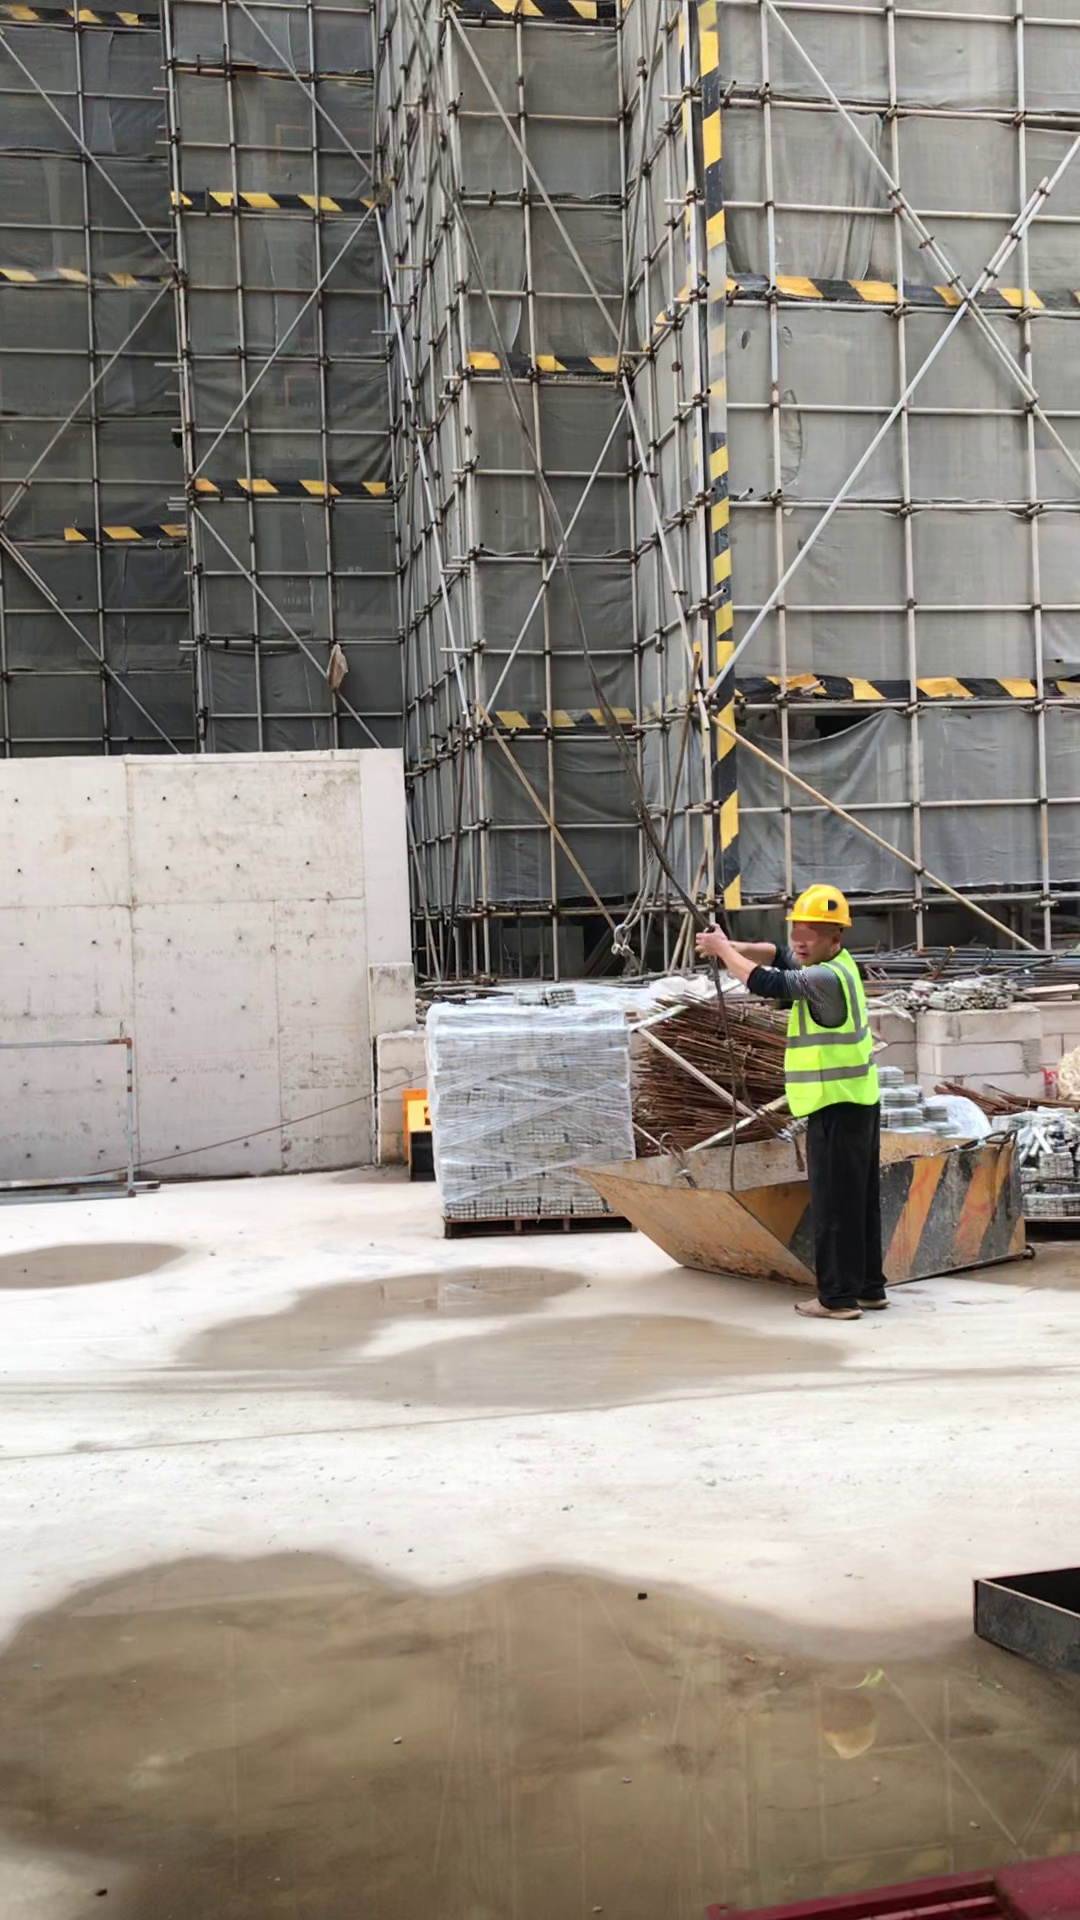helmet: (782, 881, 859, 928)
hopper: (597, 1149, 1061, 1313)
person: (669, 859, 924, 1329)
vest: (769, 955, 886, 1119)
